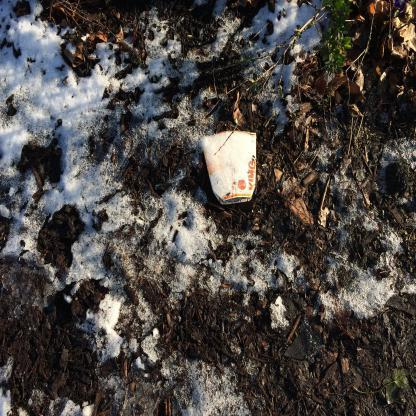karton: (202, 130, 260, 208)
